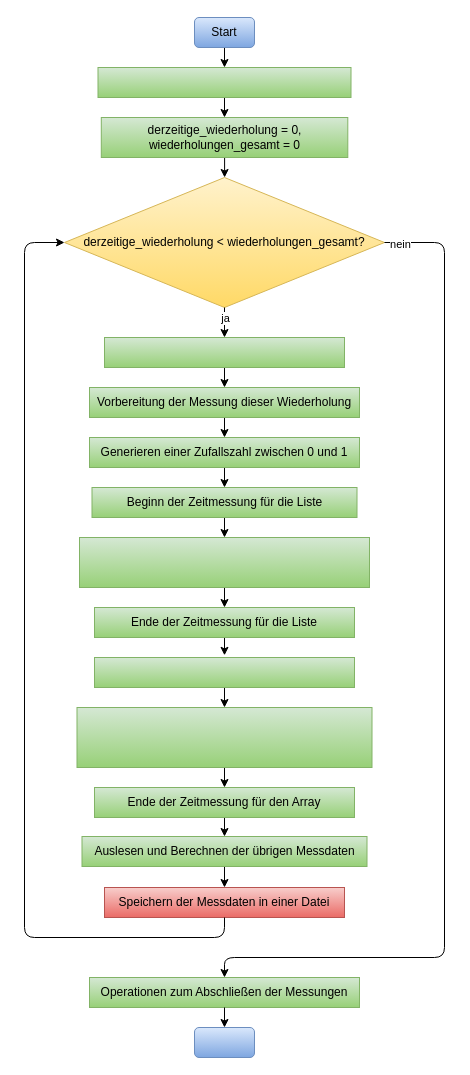
Some shapes in this 470 by 1075 pixel diagram are drawn without their labels. Here are the shapes that lost their labels. From the top down, the centre of each, then its label:
At point (224, 82): "Operationen zur Vorbereitung der Messungen".
At point (224, 352): "derzeitige_wiederholung um 1 erhöhen".
At point (224, 562): "Anhängen der Zufallszahl an die Liste".
At point (224, 672): "Beginn der Zeitmessung für den Array".
At point (224, 737): "Anhängen der Zufallszahl an den Array".
At point (224, 1042): "Ende".
